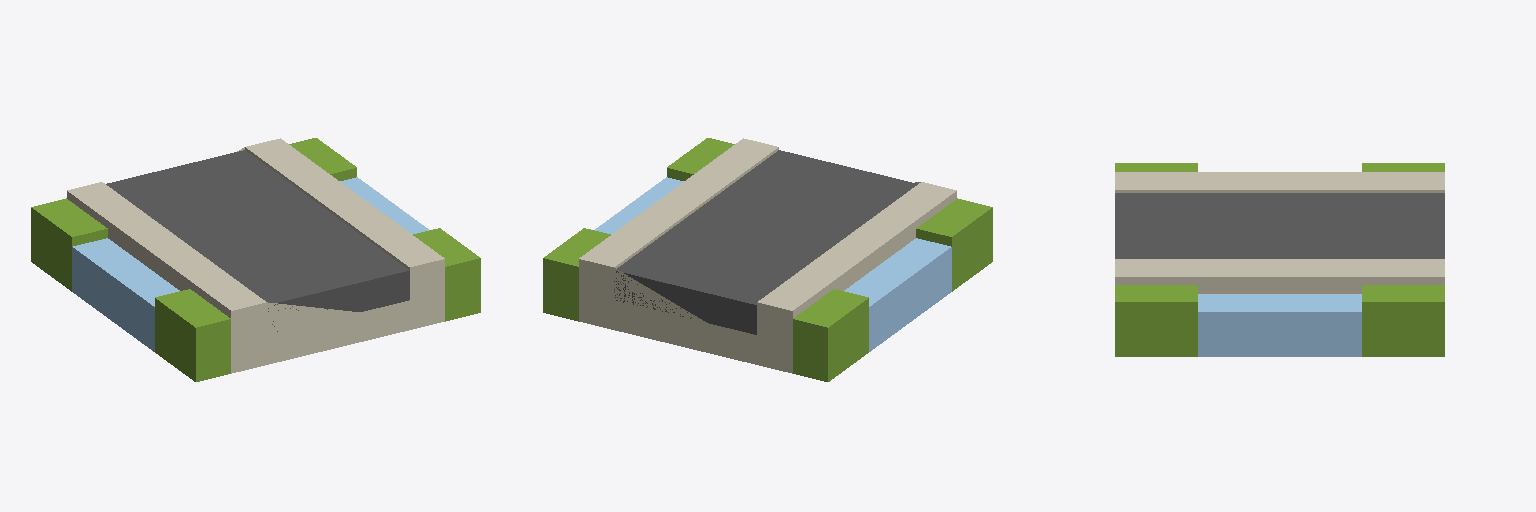
The model's file is roadTile_188.obj.
3 views of the same model, side by side, from view 1: azimuth 30°, elevation 25°; view 2: azimuth 150°, elevation 25°; view 3: azimuth 270°, elevation 25° (orthographic).
Parts seen in each view (by area): view 1: Mesh1 Group1 Model; view 2: Mesh1 Group1 Model; view 3: Mesh1 Group1 Model.
Part boxes in pixels (x1,y1,x2,y2): Mesh1 Group1 Model: (31, 138, 480, 381); Mesh1 Group1 Model: (543, 138, 992, 381); Mesh1 Group1 Model: (1115, 163, 1444, 356).
Bounding box in the file's own units: 3 × 0.63 × 3.